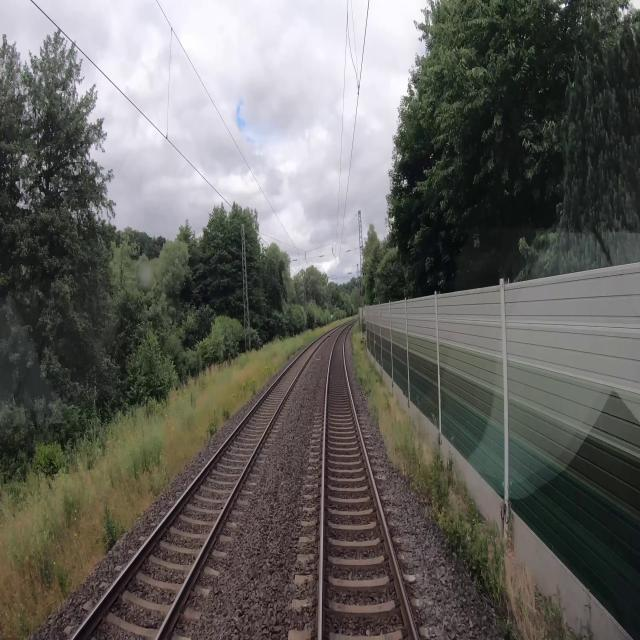Plant: (352, 353, 468, 564)
